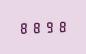eight: (18, 20, 29, 34), (30, 20, 41, 34), (54, 19, 65, 33)
nine: (42, 20, 53, 33)
